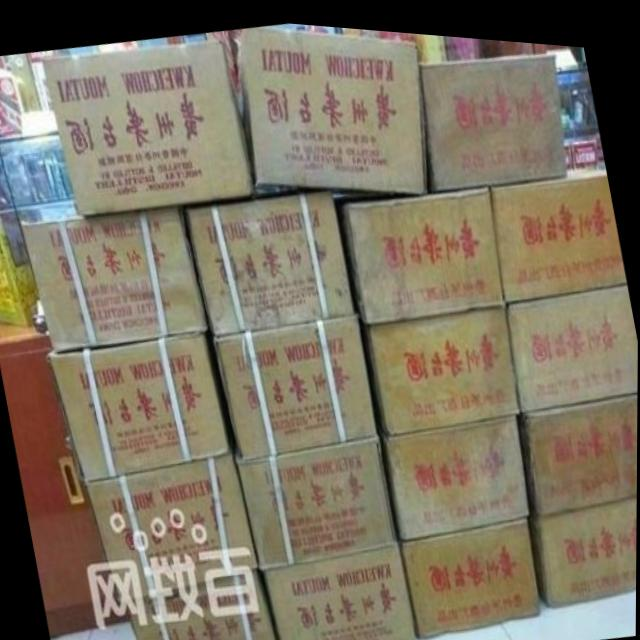box: (42, 38, 256, 216), (239, 24, 427, 188), (83, 429, 260, 600), (45, 329, 233, 478), (20, 206, 210, 353), (211, 307, 380, 457), (186, 188, 357, 333), (335, 177, 505, 318), (237, 431, 401, 566), (360, 296, 521, 433), (418, 45, 567, 184), (376, 406, 530, 532), (490, 159, 627, 293), (400, 509, 543, 634), (505, 273, 638, 403), (260, 534, 420, 640), (517, 383, 638, 507), (529, 487, 637, 600), (123, 568, 279, 640), (0, 207, 41, 327)
